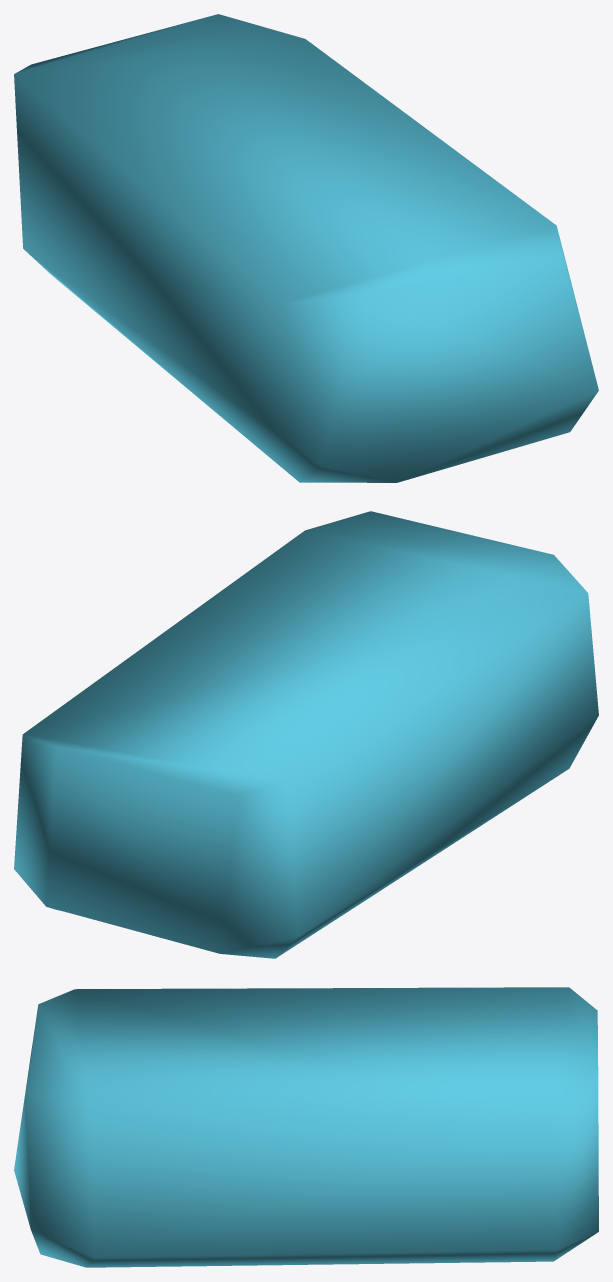
Rendered from brick_02.FBX.
3 renders of one model, top to bottom at view 1: azimuth 30°, elevation 25°; view 2: azimuth 150°, elevation 25°; view 3: azimuth 270°, elevation 25°, orthographic. The views are drawn at different scales.
Parts seen in each view (by area): view 1: brick_02; view 2: brick_02; view 3: brick_02.
Part boxes in pixels (x1,y1,x2,y2): brick_02: [14, 14, 598, 482]; brick_02: [14, 511, 598, 958]; brick_02: [14, 987, 598, 1267].
Bounding box in the file's own units: 14.58 × 8.97 × 27.87.
